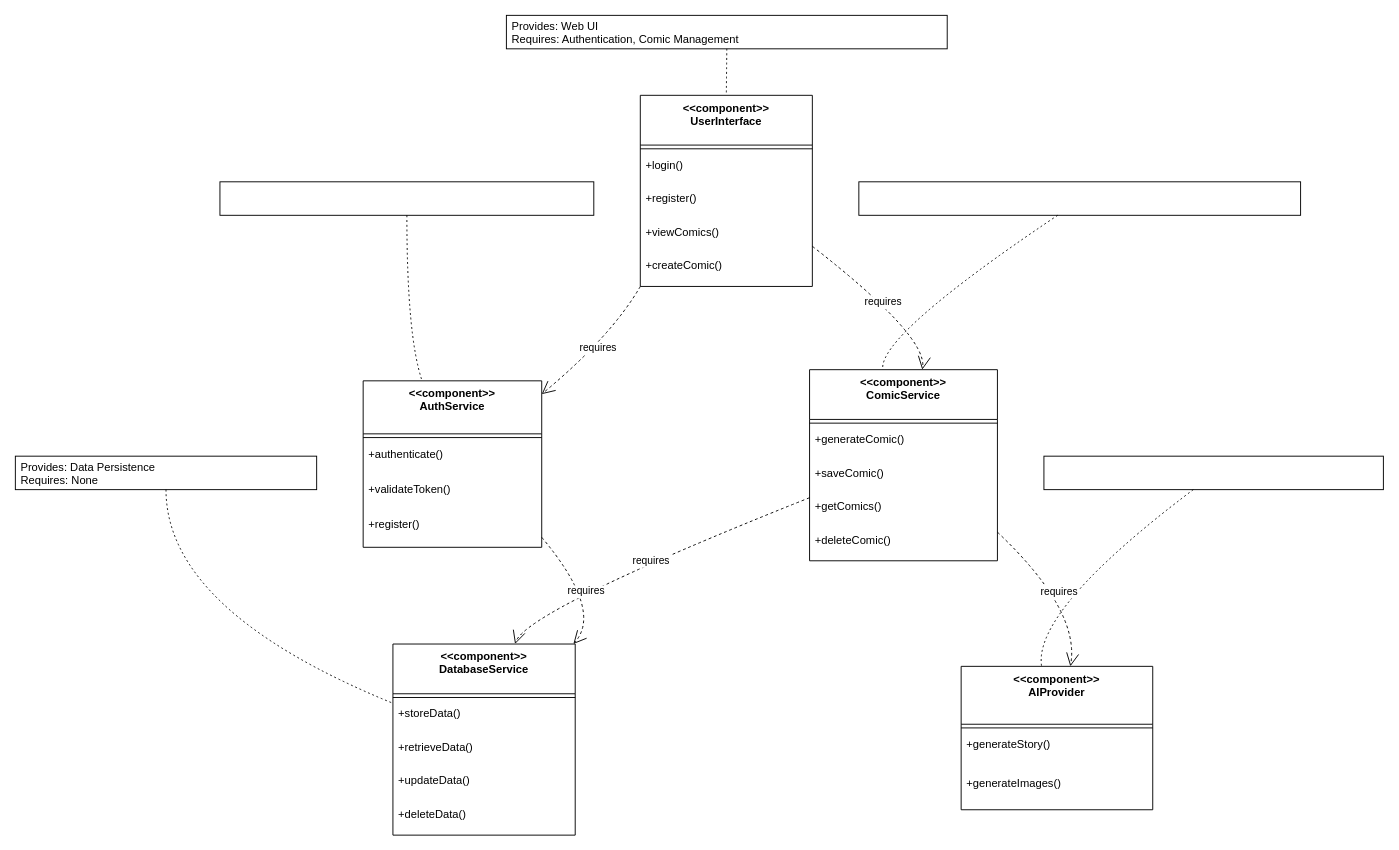
This 1399x850 diagram has some shape labels left out. Here are the shapes that lost their labels. From the top down, the centre of each, then its label:
At (x=406, y=198): "Provides: User Authentication Requires: Data Storage".
At (x=1079, y=198): "Provides: Comic Generation Requires: AI Services, Data Storage".
At (x=1213, y=472): "Provides: AI Generation Services Requires: None".
